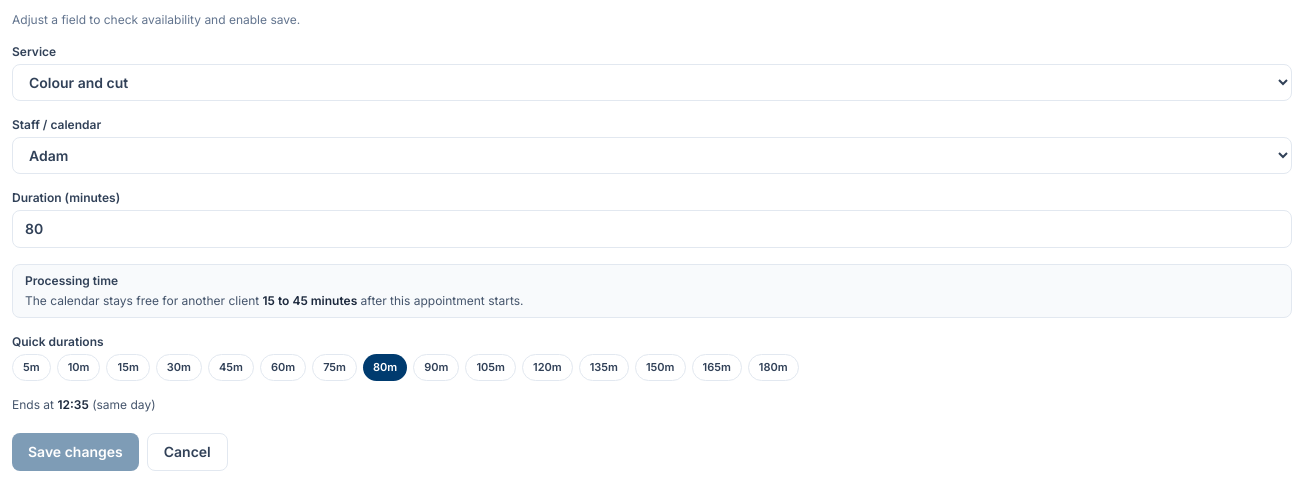
Test: StaffAppointmentModifyForm processing time › tells staff what saving will do to the gap
Replace the text in the number field labelled "Duration (minutes)" with "40" at (652, 229), box [12,210,1292,248]
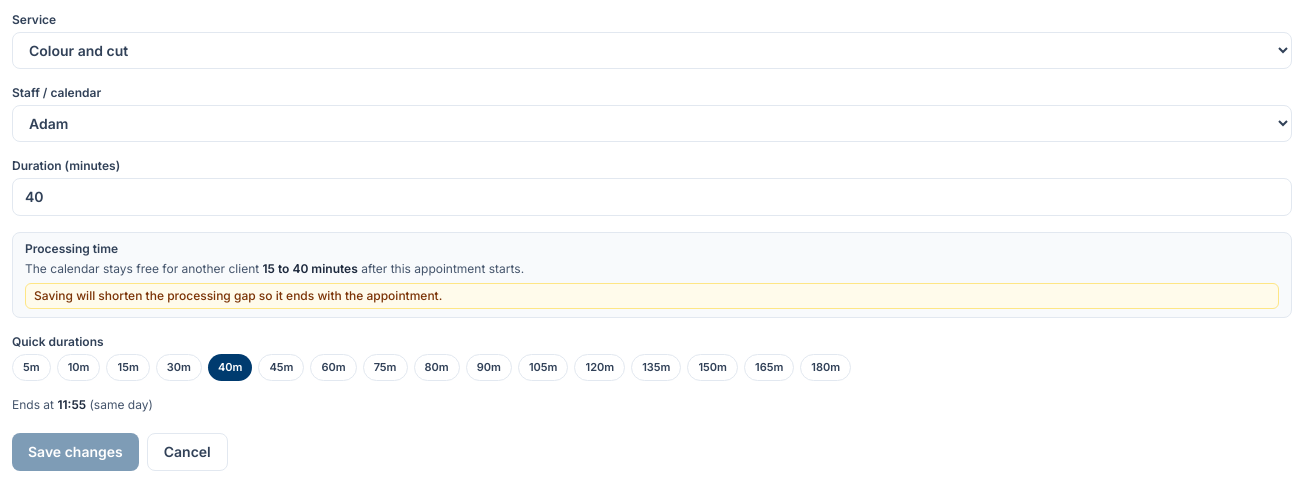
Result: the text "shorten the processing gap" is shown at [34,288,442,303]
Result: the text "15 to 40 minutes" is shown at [262,261,358,276]
Replace the text in the number field labelled "Duration (minutes)" with "18" at (652, 197), box [12,178,1292,216]
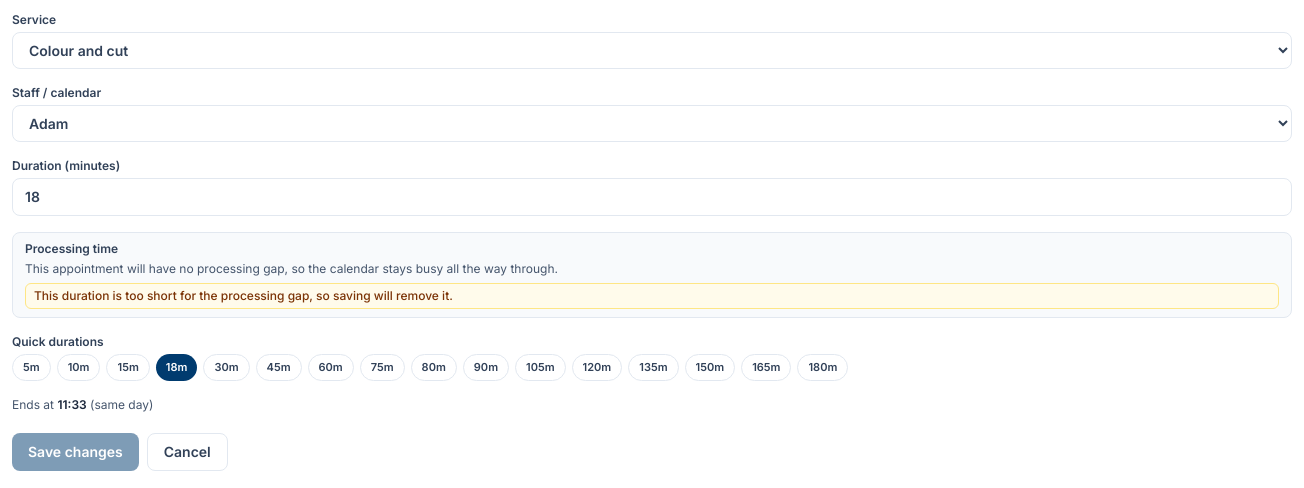
Result: the text "too short for the processing gap, so saving will remove it" is shown at [34,288,453,303]
